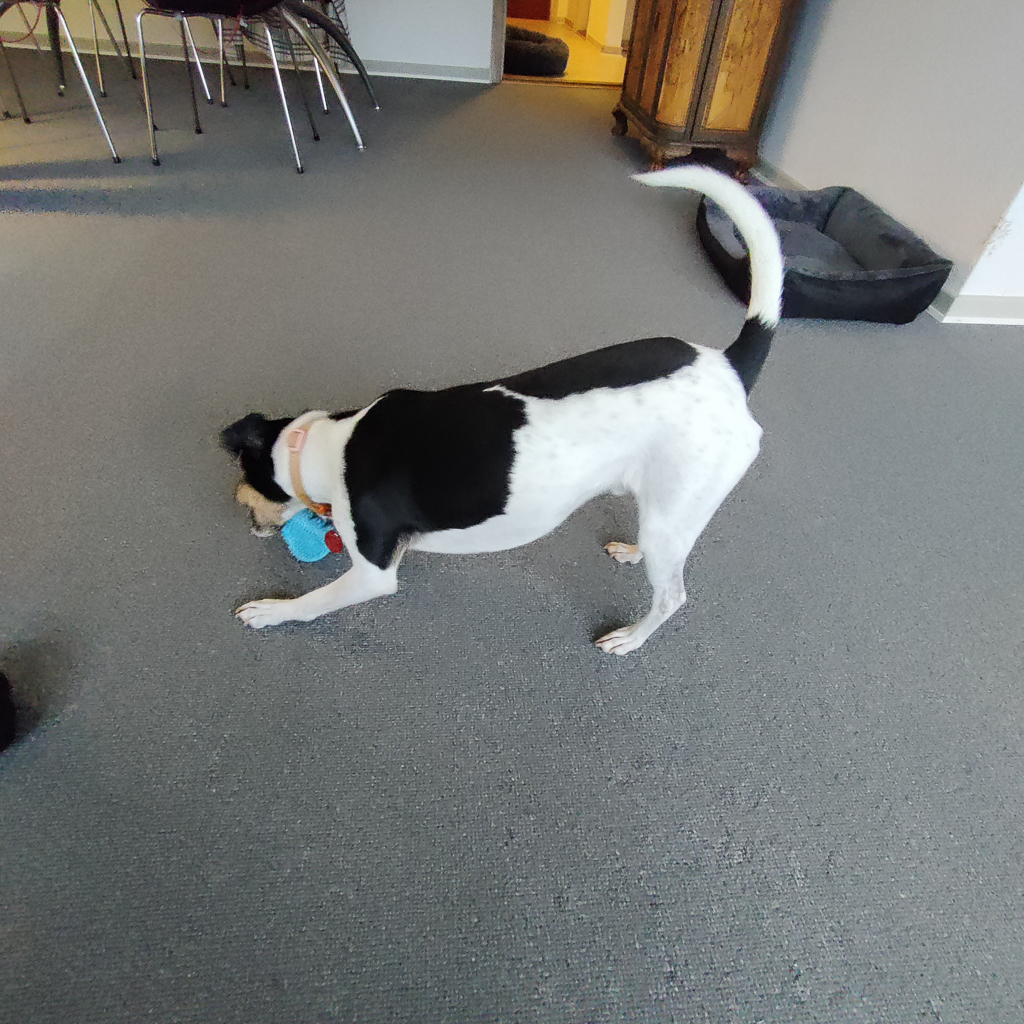Dog: (175, 151, 802, 681)
